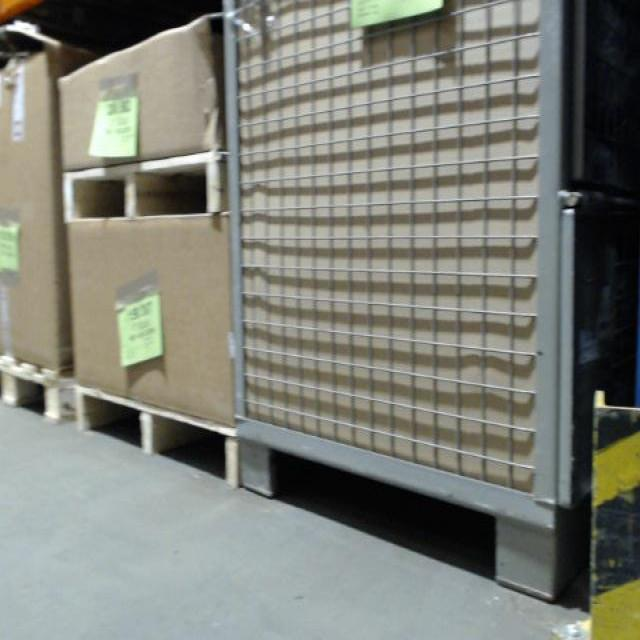pallet: (77, 387, 234, 475), (63, 149, 227, 225), (1, 354, 68, 424)
stillage: (226, 2, 622, 614)
